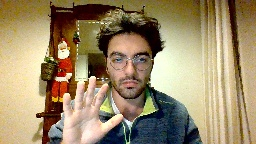Mano_aperta: (56, 71, 127, 144)
